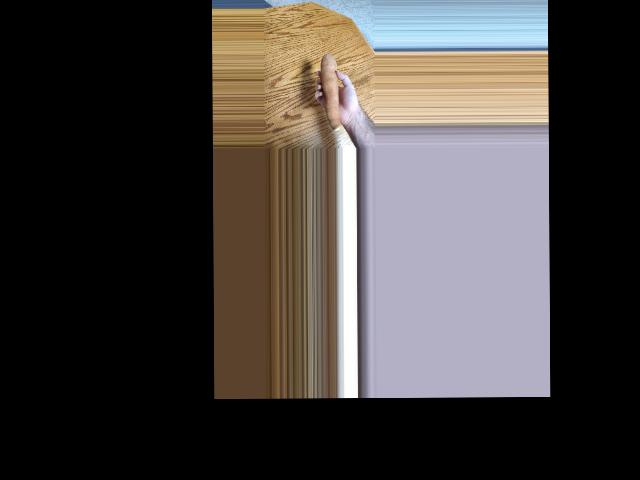sweet_potato: (315, 50, 339, 128)
